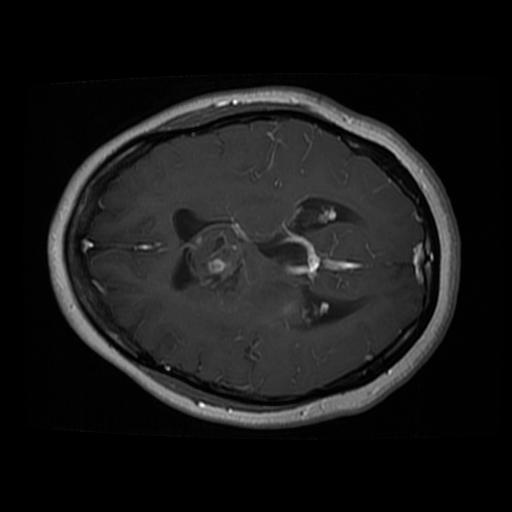glioma: (185, 221, 306, 328)
